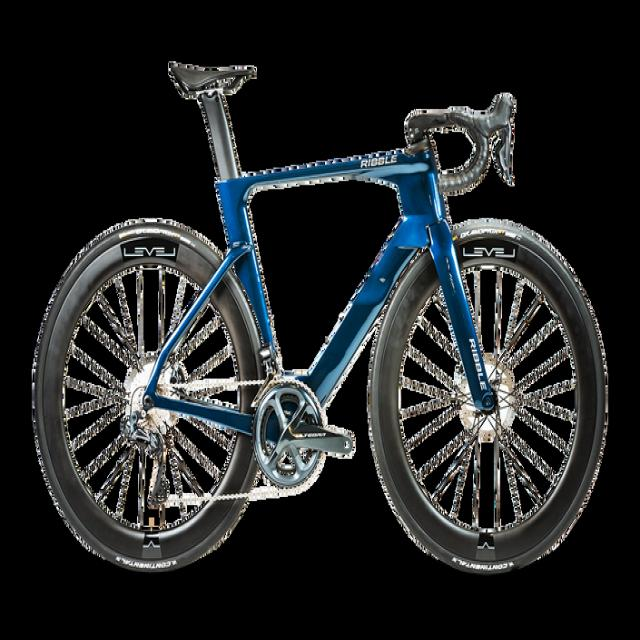road-bike: (31, 62, 610, 578)
